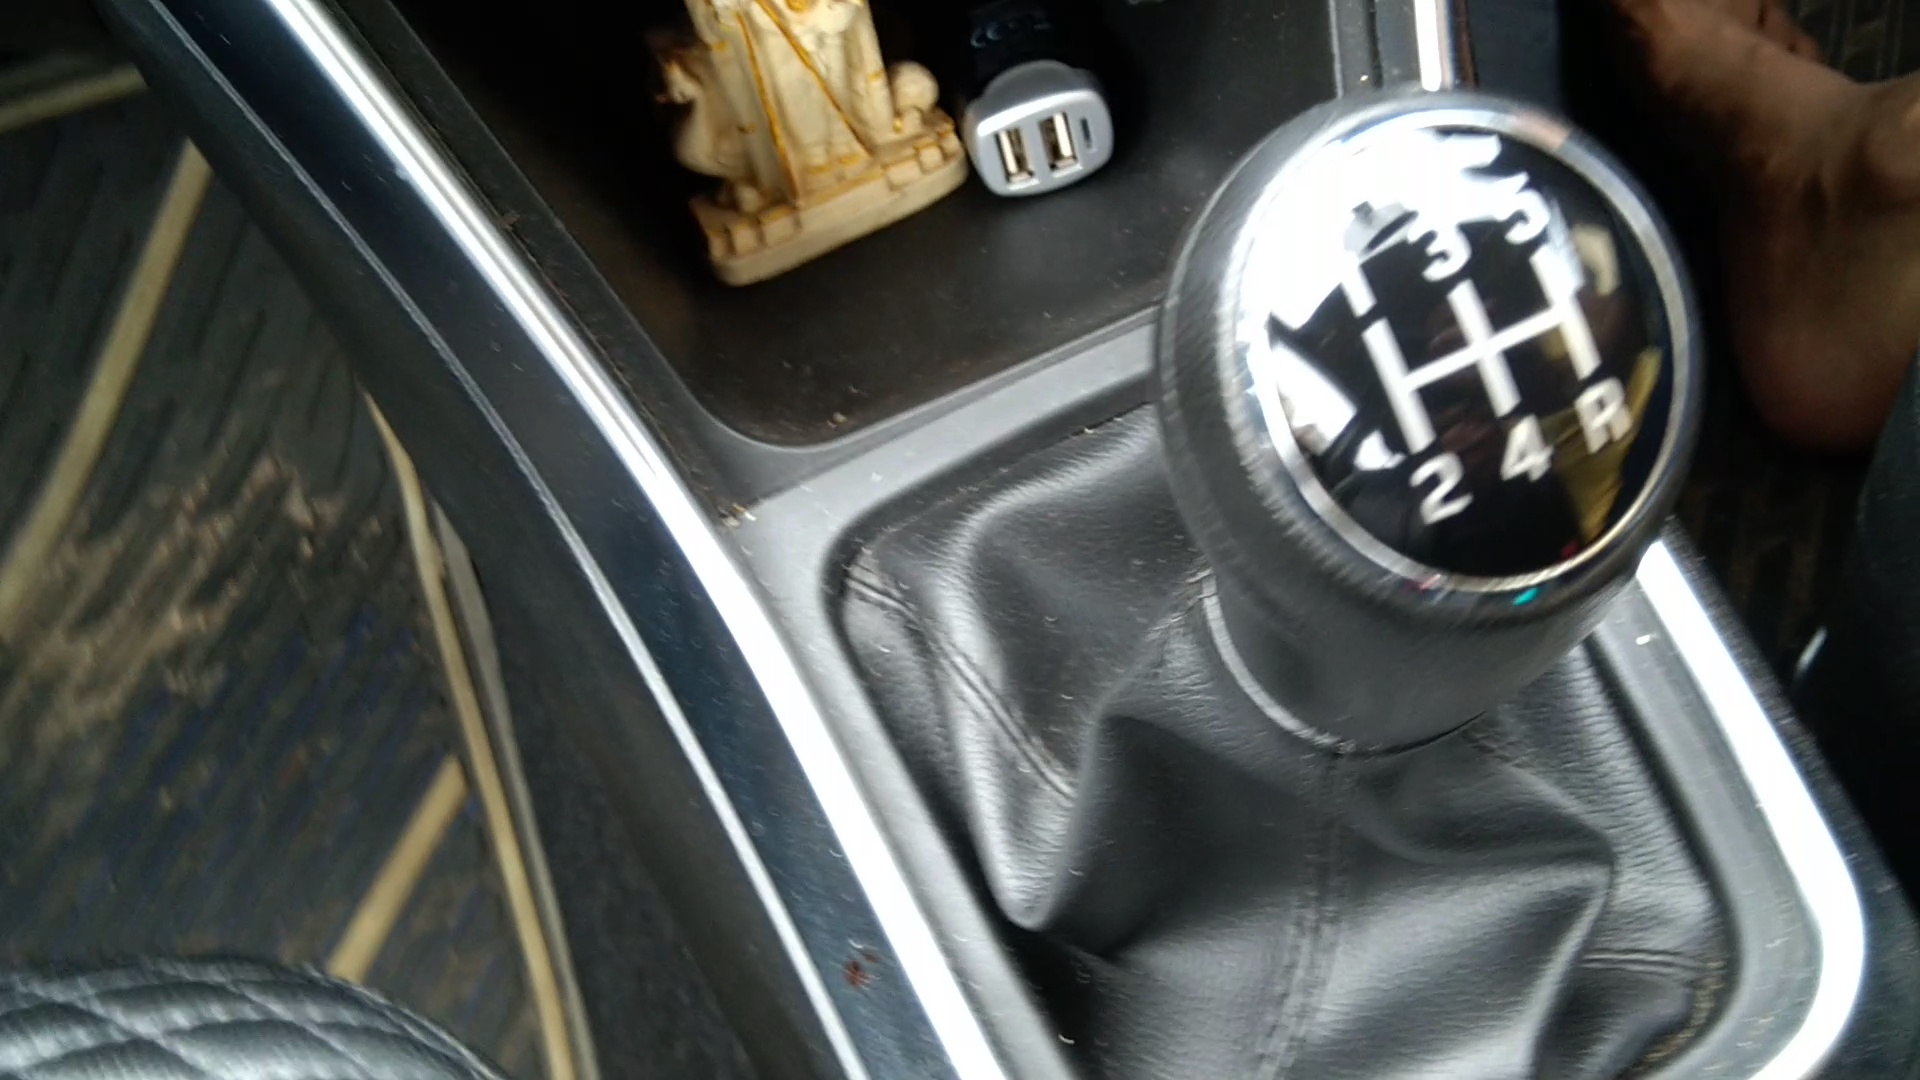manual_gear: (1139, 95, 1716, 840)
